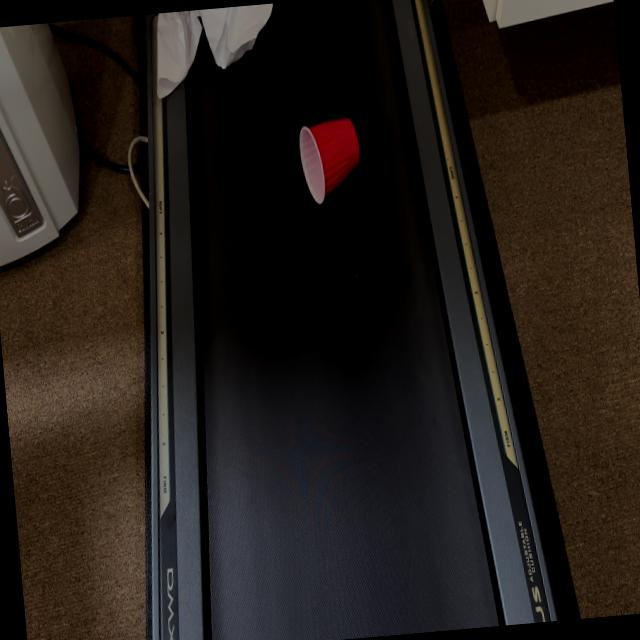Recycle: (282, 86, 382, 208)
